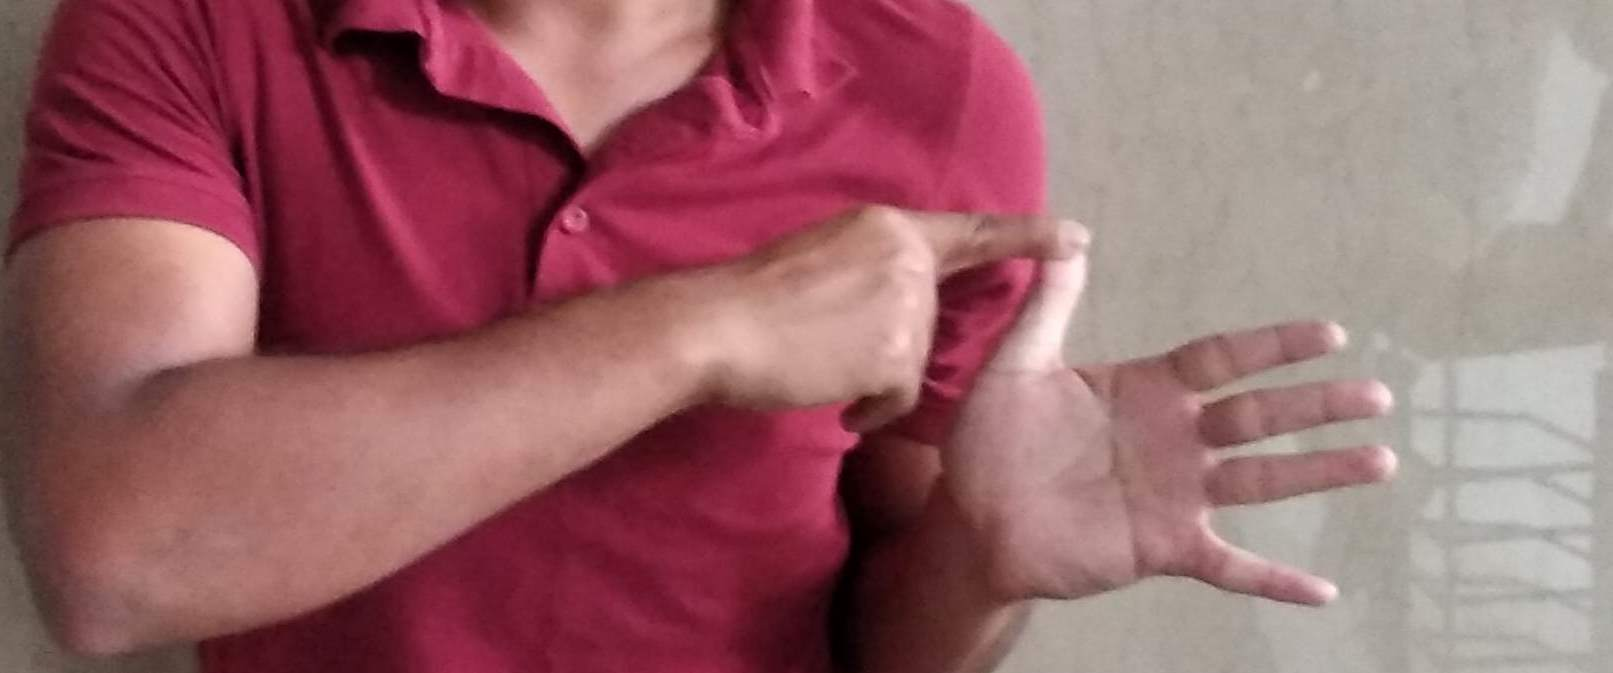a: (770, 200, 1386, 634)
